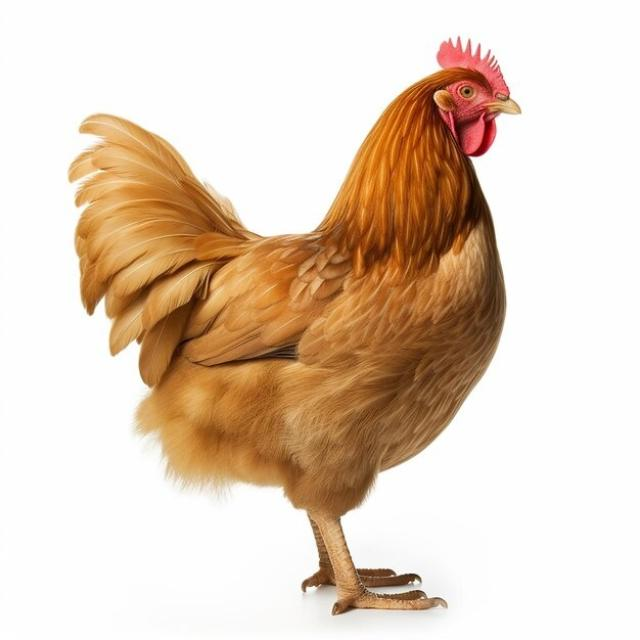Chicken: (69, 36, 523, 618)
